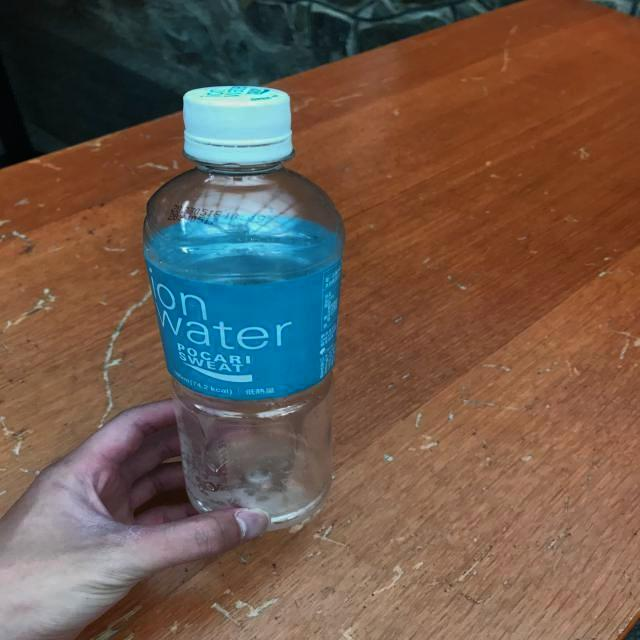bottle: (143, 86, 346, 532)
